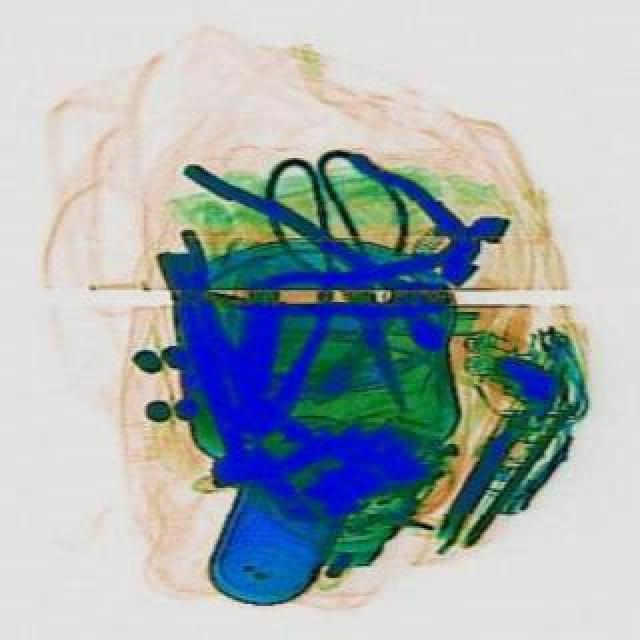pliers: (246, 130, 468, 430)
